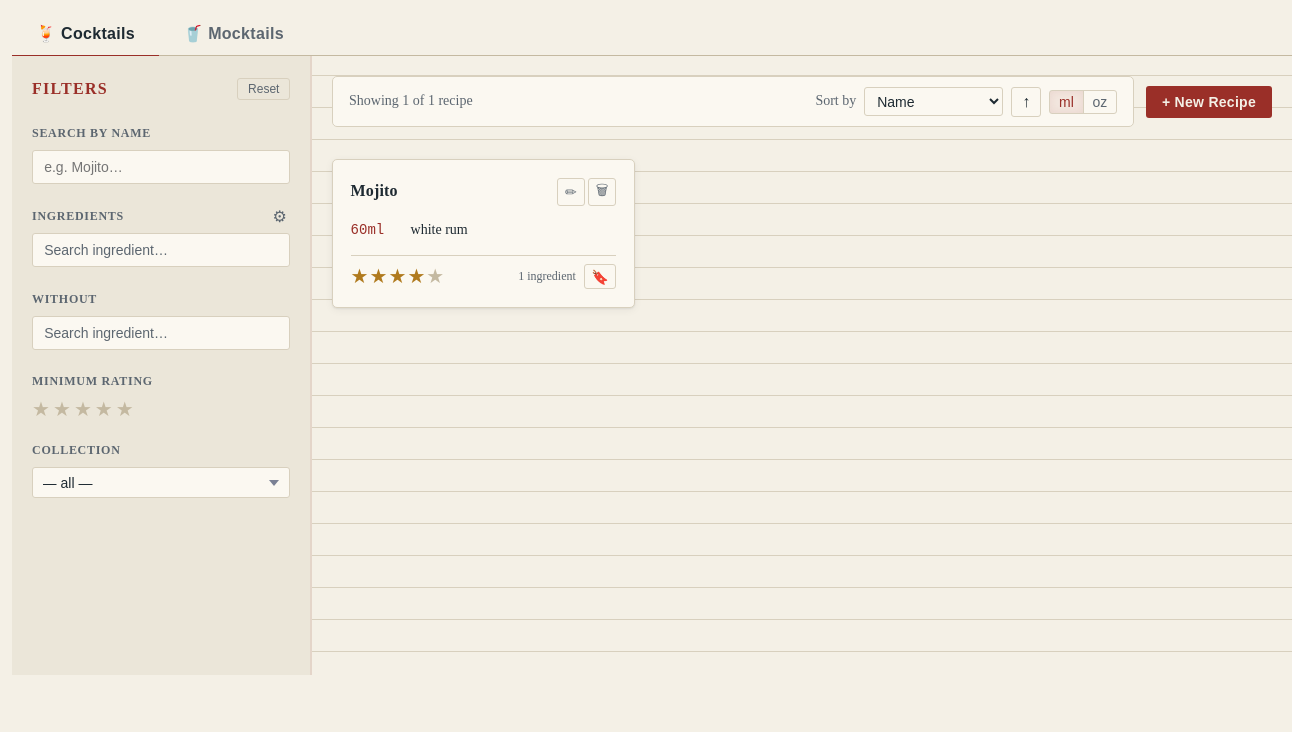
RecipesPage — writes › reportsError_whenDeleteFails
Expected: the heading "Mojito" is shown, [351,182,398,199]
Expected: the button "+ New Recipe" is shown, [1146,86,1272,118]
Click the button named "Delete Mojito" at (602, 192), box [588,178,616,206]
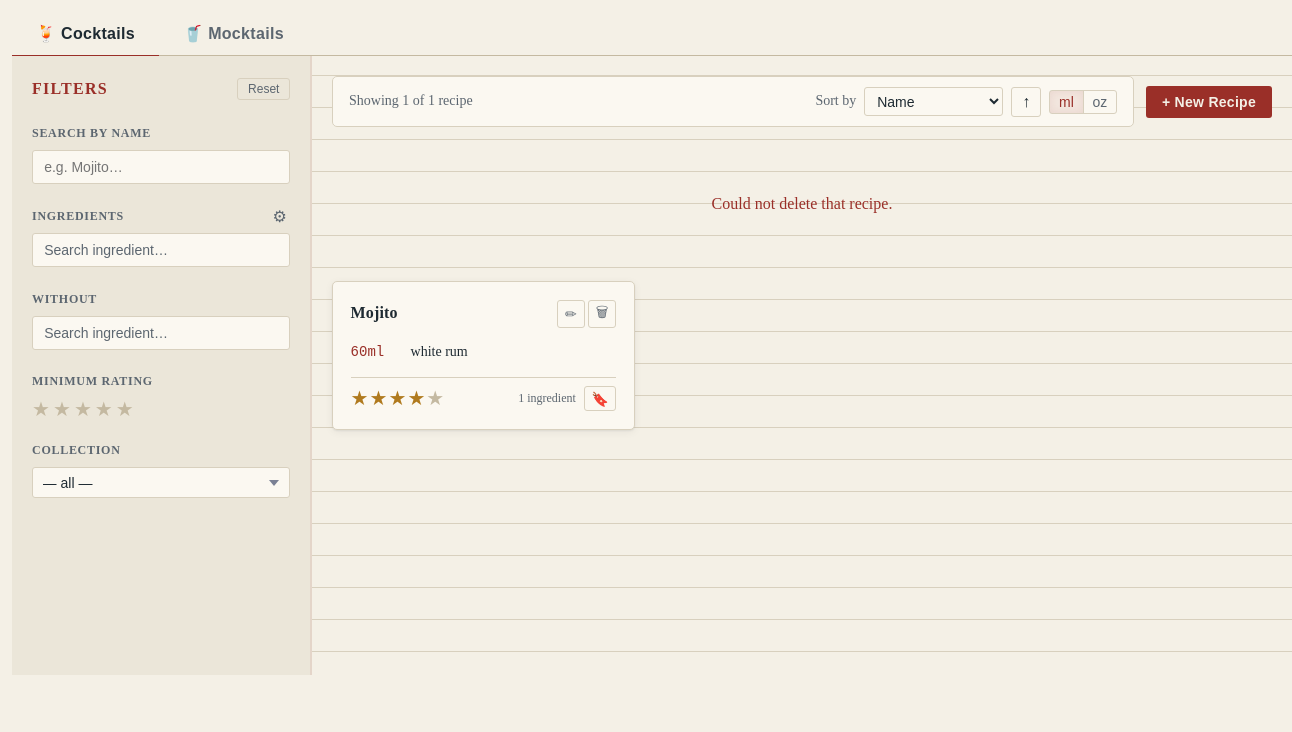
Expected: the text "Could not delete that recipe." is shown, [712,195,892,212]
